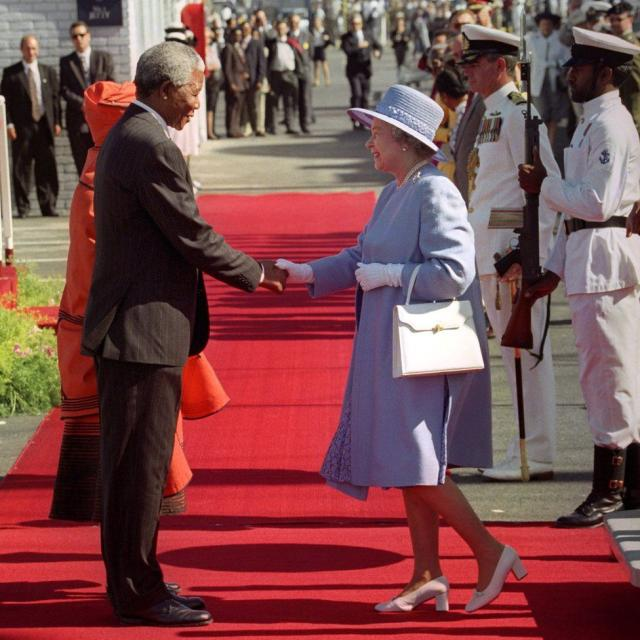body: (265, 79, 534, 622), (83, 38, 289, 628), (42, 74, 235, 614), (166, 1, 639, 148), (514, 19, 640, 532), (443, 20, 566, 486), (0, 33, 64, 219), (56, 19, 115, 181), (519, 8, 570, 156), (340, 11, 382, 132), (262, 18, 304, 136), (286, 12, 316, 134), (220, 25, 251, 138), (238, 19, 267, 138), (306, 15, 332, 88), (183, 155, 214, 196)
